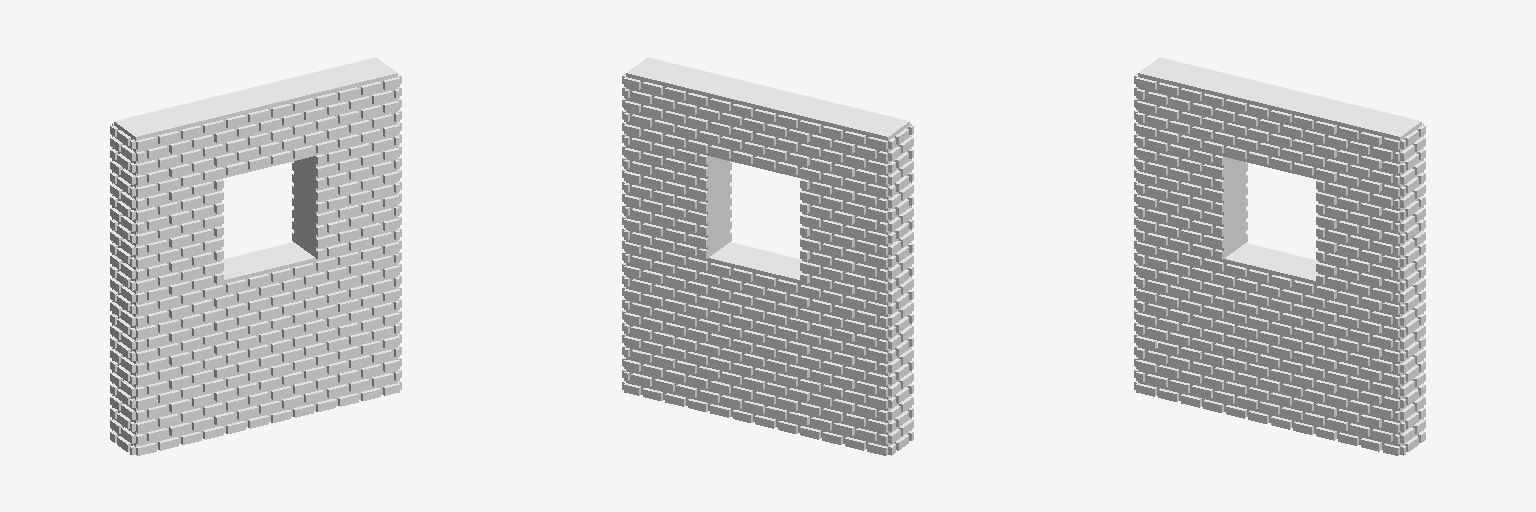
Rendered from window_wall_h81_rc_1.0.obj.
3 renders of one model, left to right at view 1: azimuth 30°, elevation 25°; view 2: azimuth 150°, elevation 25°; view 3: azimuth 330°, elevation 25°, orthographic.
Visible parts, largest first — view 1: object 1; view 2: object 1; view 3: object 1.
Part boxes in pixels (bbox=[...]): object 1: bbox=[110, 57, 401, 455]; object 1: bbox=[622, 57, 913, 455]; object 1: bbox=[1134, 57, 1425, 455].
Size of the model in its own units: 7.2 by 8.1 by 1.2.